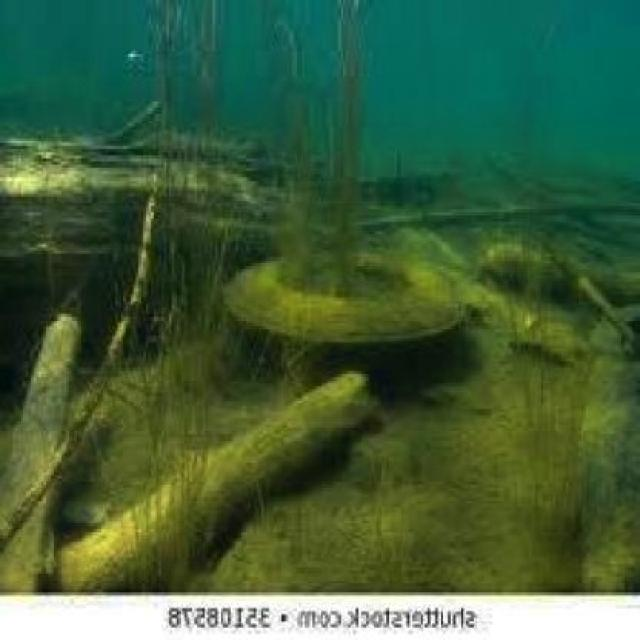tire: (204, 241, 493, 393)
